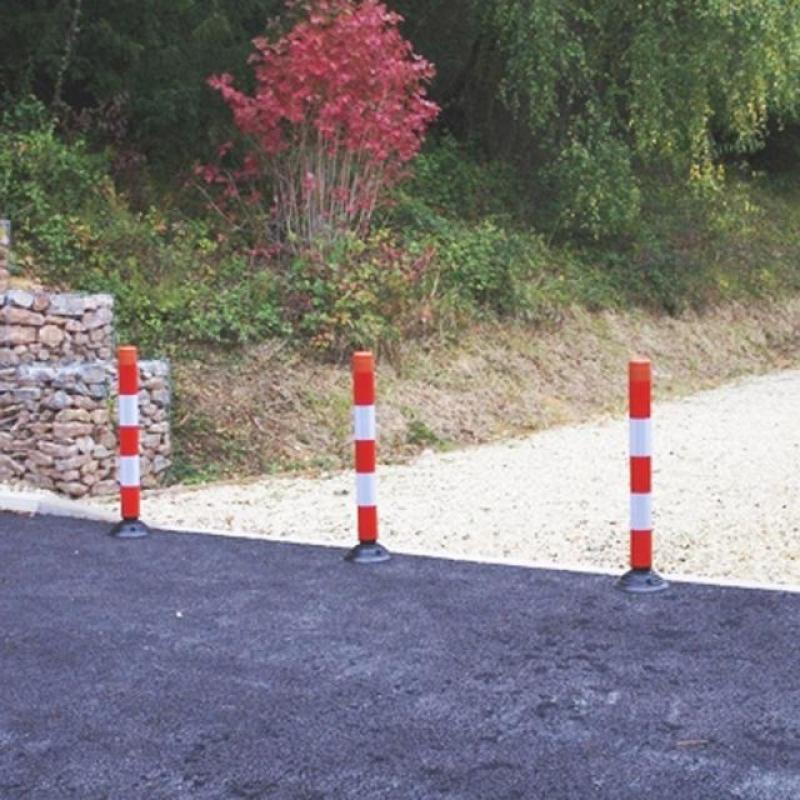pillar: (616, 345, 666, 584), (109, 334, 150, 550), (340, 345, 381, 559)
